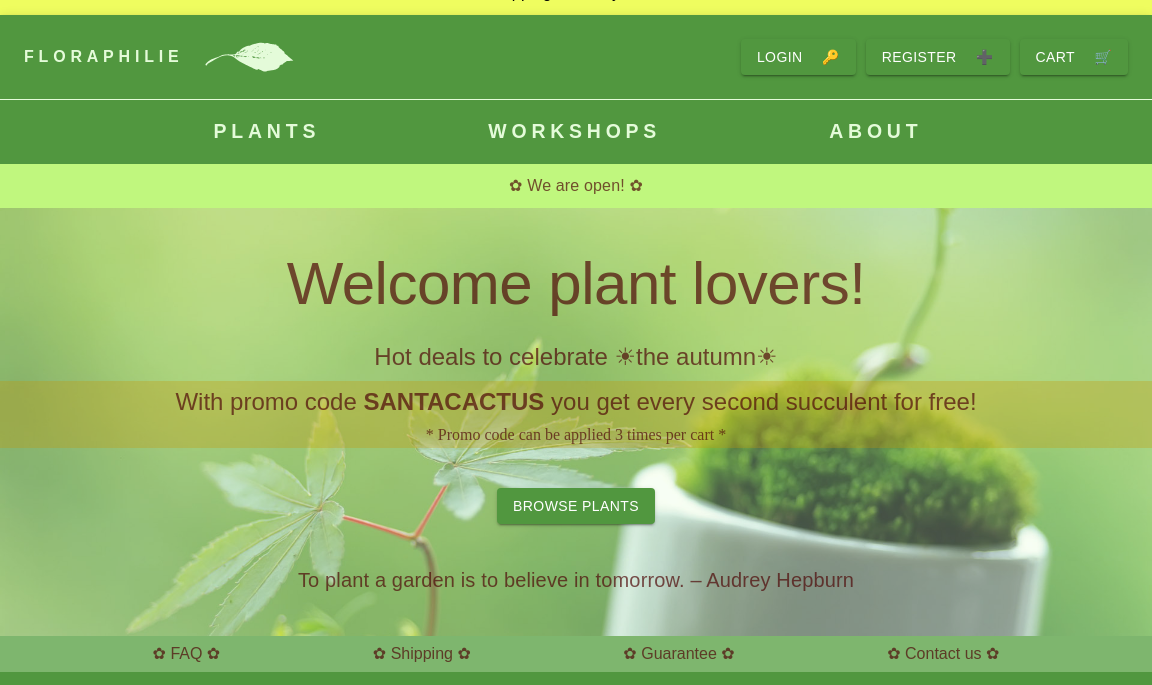
App › follow the login link
The image size is (1152, 685).
Click the link "LOGIN 🔑": (798, 57) [757,45,840,69]
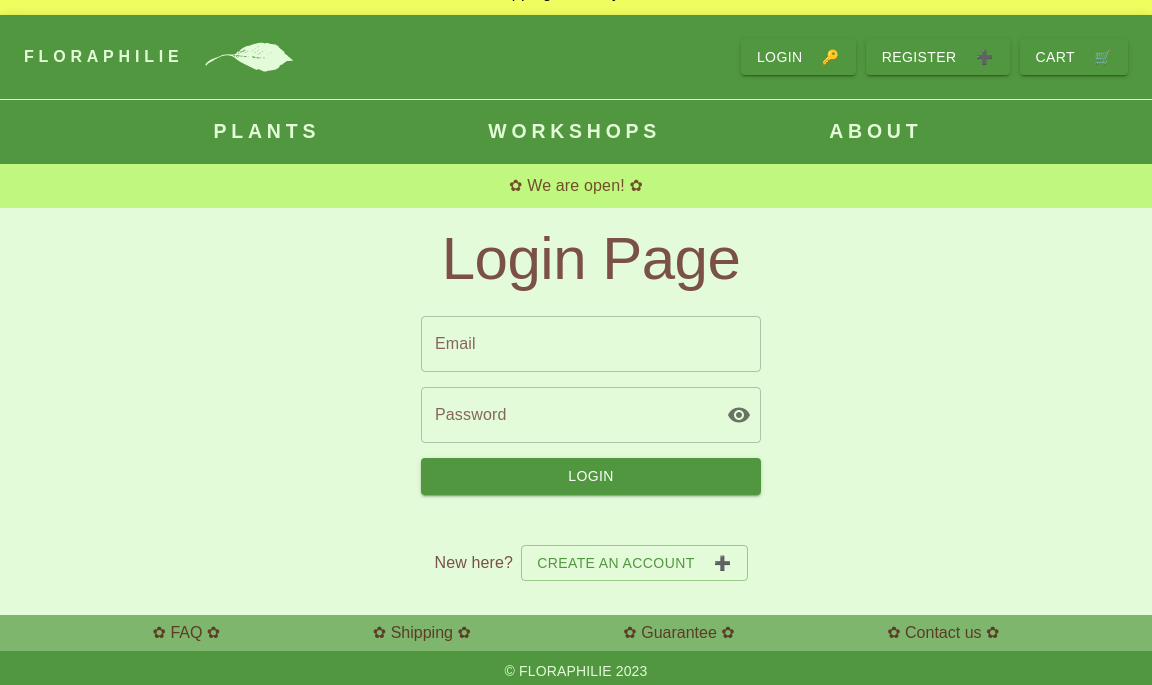
Now the text "New here?" is shown, box [434,551,513,575]
Click the link "Create an account ➕": (634, 563) [537,550,732,575]
(page scrolled)
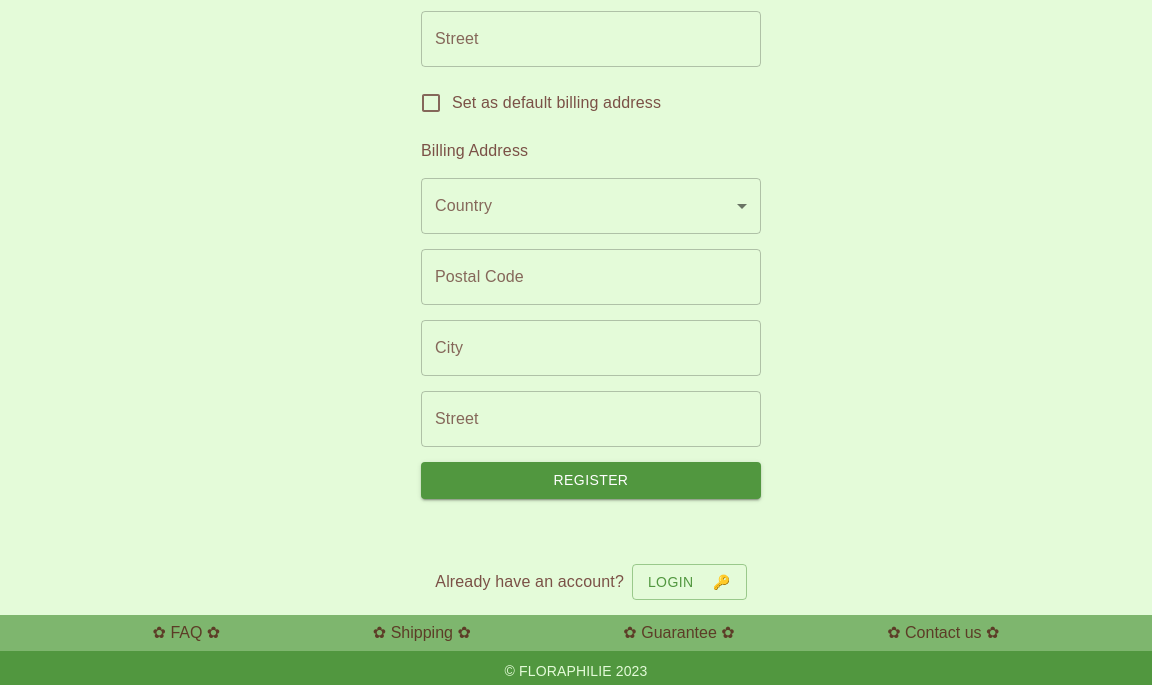
Now the text "Already have an account?" is shown, box [435,570,624,594]
